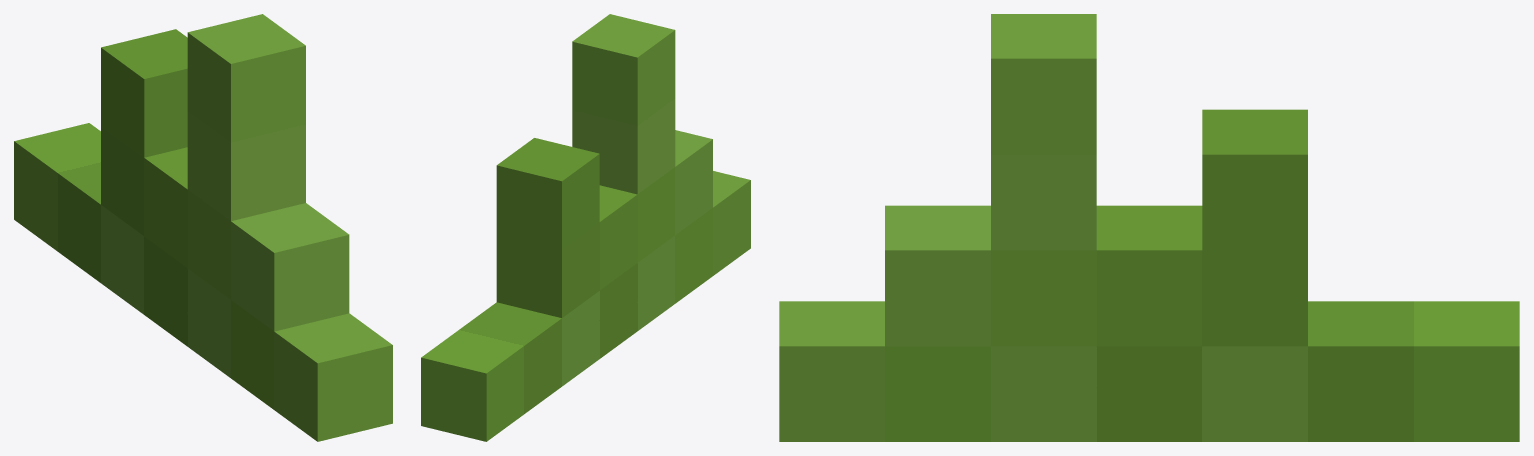
Rendered from grass_2.fbx.
3 renders of one model, left to right at view 1: azimuth 30°, elevation 25°; view 2: azimuth 150°, elevation 25°; view 3: azimuth 270°, elevation 25°, orthographic. The views are drawn at different scales.
Visible parts, largest first — view 1: grass_2; view 2: grass_2; view 3: grass_2.
Part boxes in pixels (<box>): grass_2: <box>14,14,392,441</box>; grass_2: <box>421,14,750,441</box>; grass_2: <box>779,14,1519,441</box>.
Size of the model in its own units: 1 by 4 by 7.
1 material, 1 textured.
